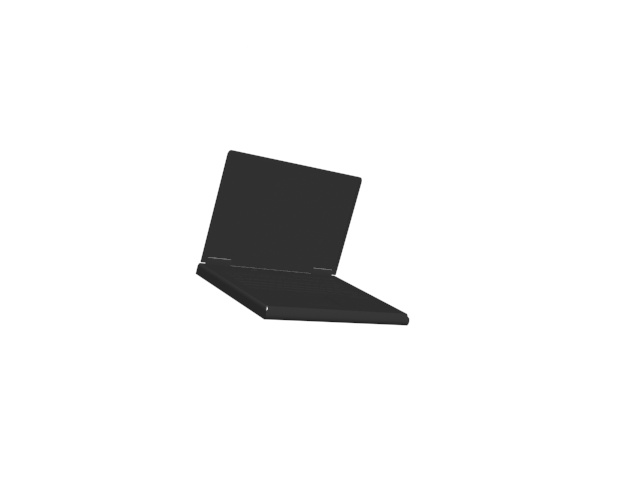laptop_computer: (193, 145, 416, 328)
